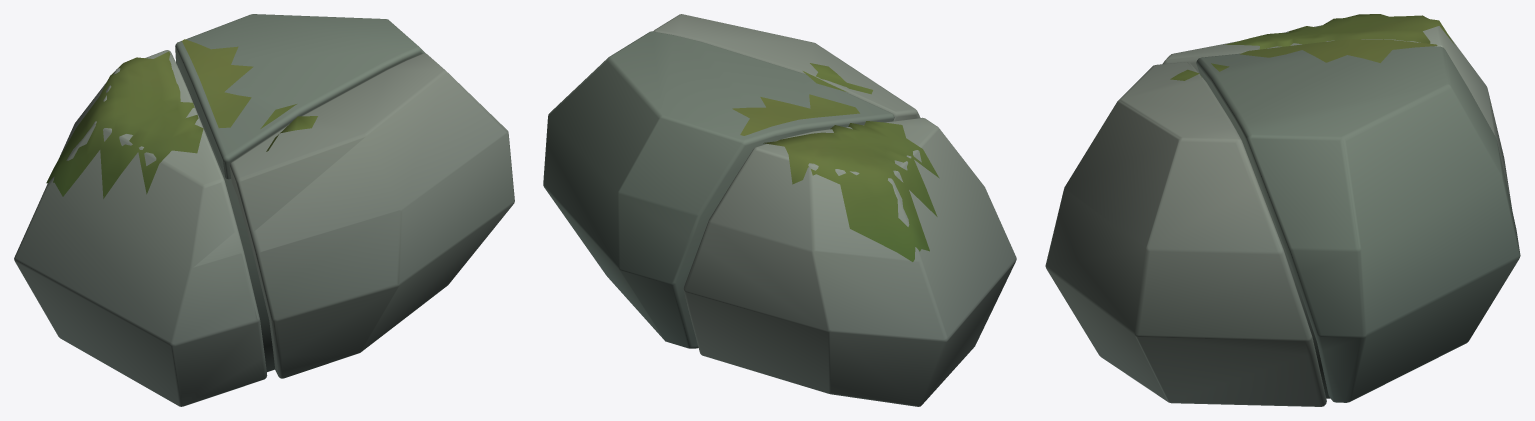
The model's file is moss_boulder.glb.
The picture shows the model from 3 angles, left to right: view 1: azimuth 30°, elevation 25°; view 2: azimuth 150°, elevation 25°; view 3: azimuth 270°, elevation 25°; orthographic projection. The views are drawn at different scales.
Parts seen in each view (by area): view 1: Stone; view 2: Stone; view 3: Stone.
Boxes of the visible parts, <box> form: Stone: <box>14,14,514,406</box>; Stone: <box>543,14,1016,406</box>; Stone: <box>1045,14,1520,406</box>.
Size of the model in its own units: 1.96 by 1.23 by 1.58.
